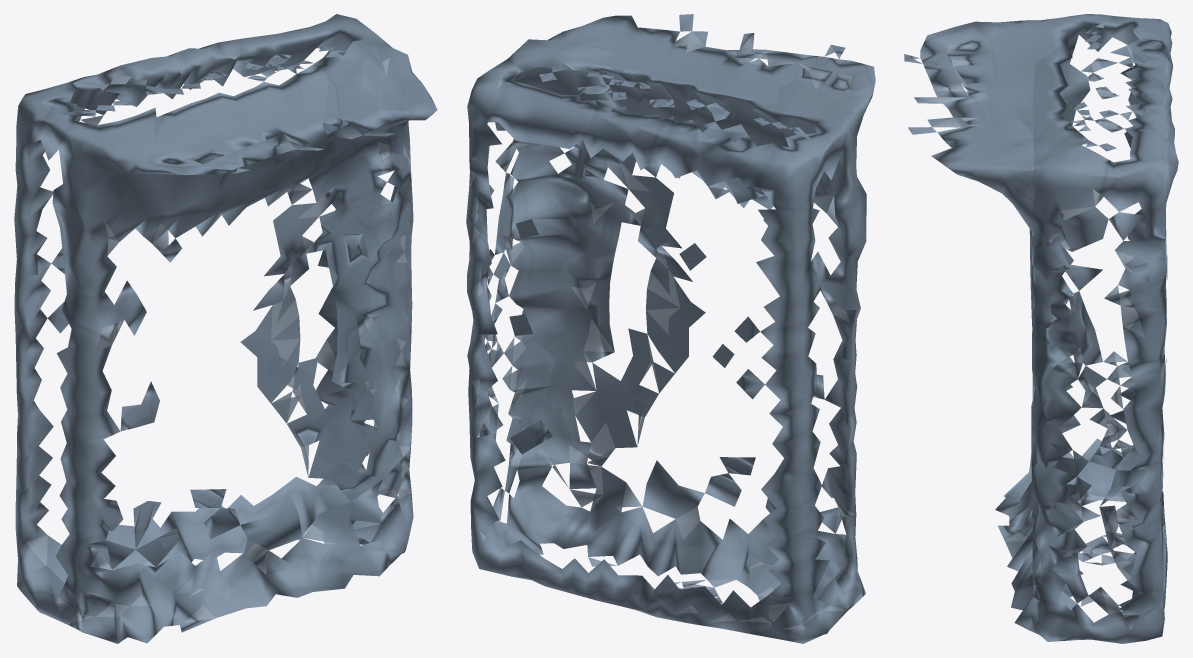
Rendered from bed_0342_recon.obj.
3 renders of one model, left to right at view 1: azimuth 30°, elevation 25°; view 2: azimuth 150°, elevation 25°; view 3: azimuth 270°, elevation 25°, orthographic. The views are drawn at different scales.
Bounding box in the file's own units: 1 × 1.37 × 0.7107.
